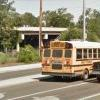Bus: (35, 33, 100, 80)
